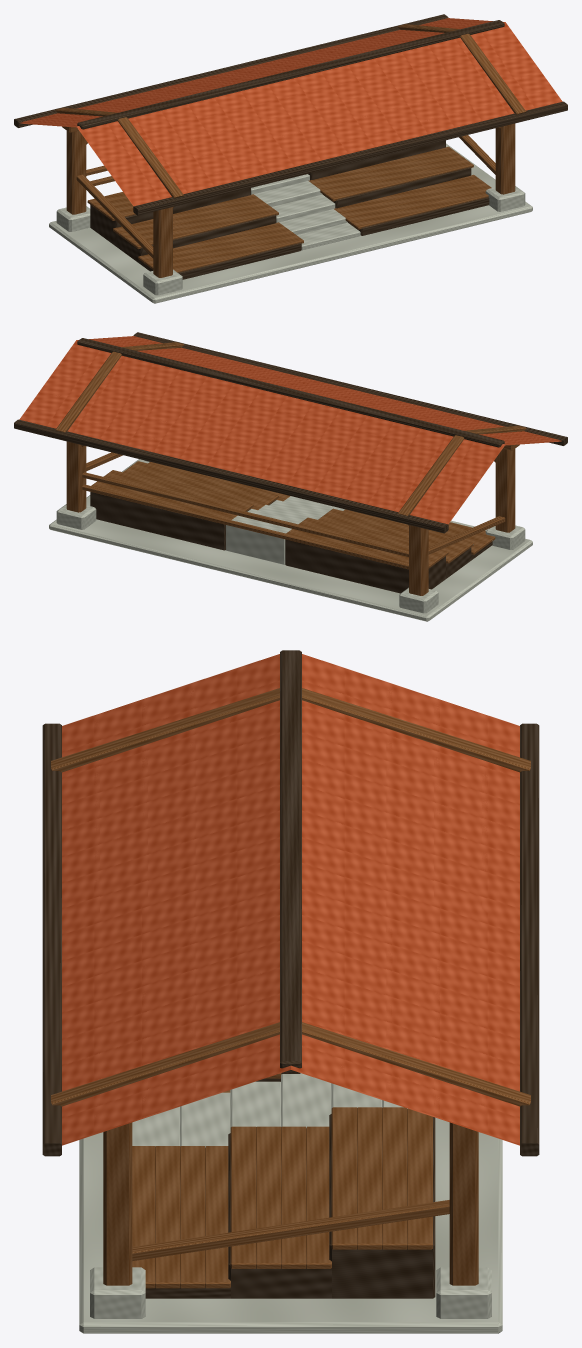
Rendered from arena_covered_stand.glb.
3 views of the same model, one above another, from view 1: azimuth 30°, elevation 25°; view 2: azimuth 150°, elevation 25°; view 3: azimuth 270°, elevation 25° (orthographic). The views are drawn at different scales.
Visible parts, largest first — view 1: arena_covered_stand_Roof, arena_covered_stand_Structure, arena_covered_stand_Joinery, arena_covered_stand_Seating; view 2: arena_covered_stand_Roof, arena_covered_stand_Joinery, arena_covered_stand_Structure, arena_covered_stand_Seating; view 3: arena_covered_stand_Roof, arena_covered_stand_Joinery, arena_covered_stand_Structure, arena_covered_stand_Seating.
Part boxes in pixels (x1,y1,x2,y2): arena_covered_stand_Roof: (20, 18, 562, 206); arena_covered_stand_Structure: (49, 140, 532, 303); arena_covered_stand_Joinery: (14, 14, 567, 277); arena_covered_stand_Seating: (87, 146, 491, 272); arena_covered_stand_Roof: (19, 336, 561, 524); arena_covered_stand_Joinery: (14, 332, 567, 595); arena_covered_stand_Structure: (49, 459, 532, 621); arena_covered_stand_Seating: (91, 461, 495, 568); arena_covered_stand_Roof: (62, 654, 519, 1145); arena_covered_stand_Joinery: (42, 650, 539, 1285); arena_covered_stand_Structure: (79, 1073, 502, 1333); arena_covered_stand_Seating: (132, 1073, 432, 1288).
Size of the model in its own units: 14 by 4.58 by 7.
1 material, 1 textured.
